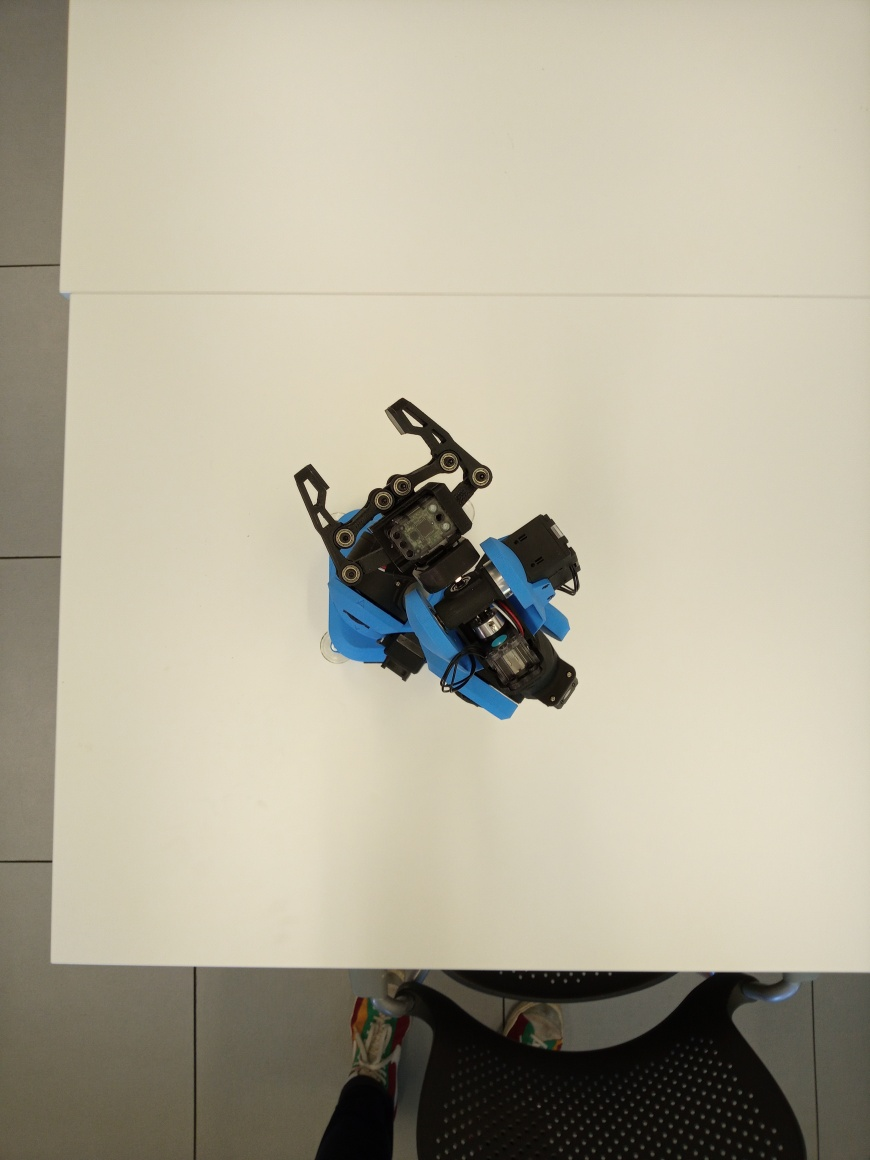robot: (288, 391, 592, 730)
